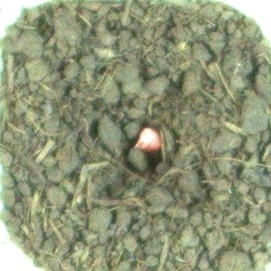chilli seed: (132, 126, 165, 154)
